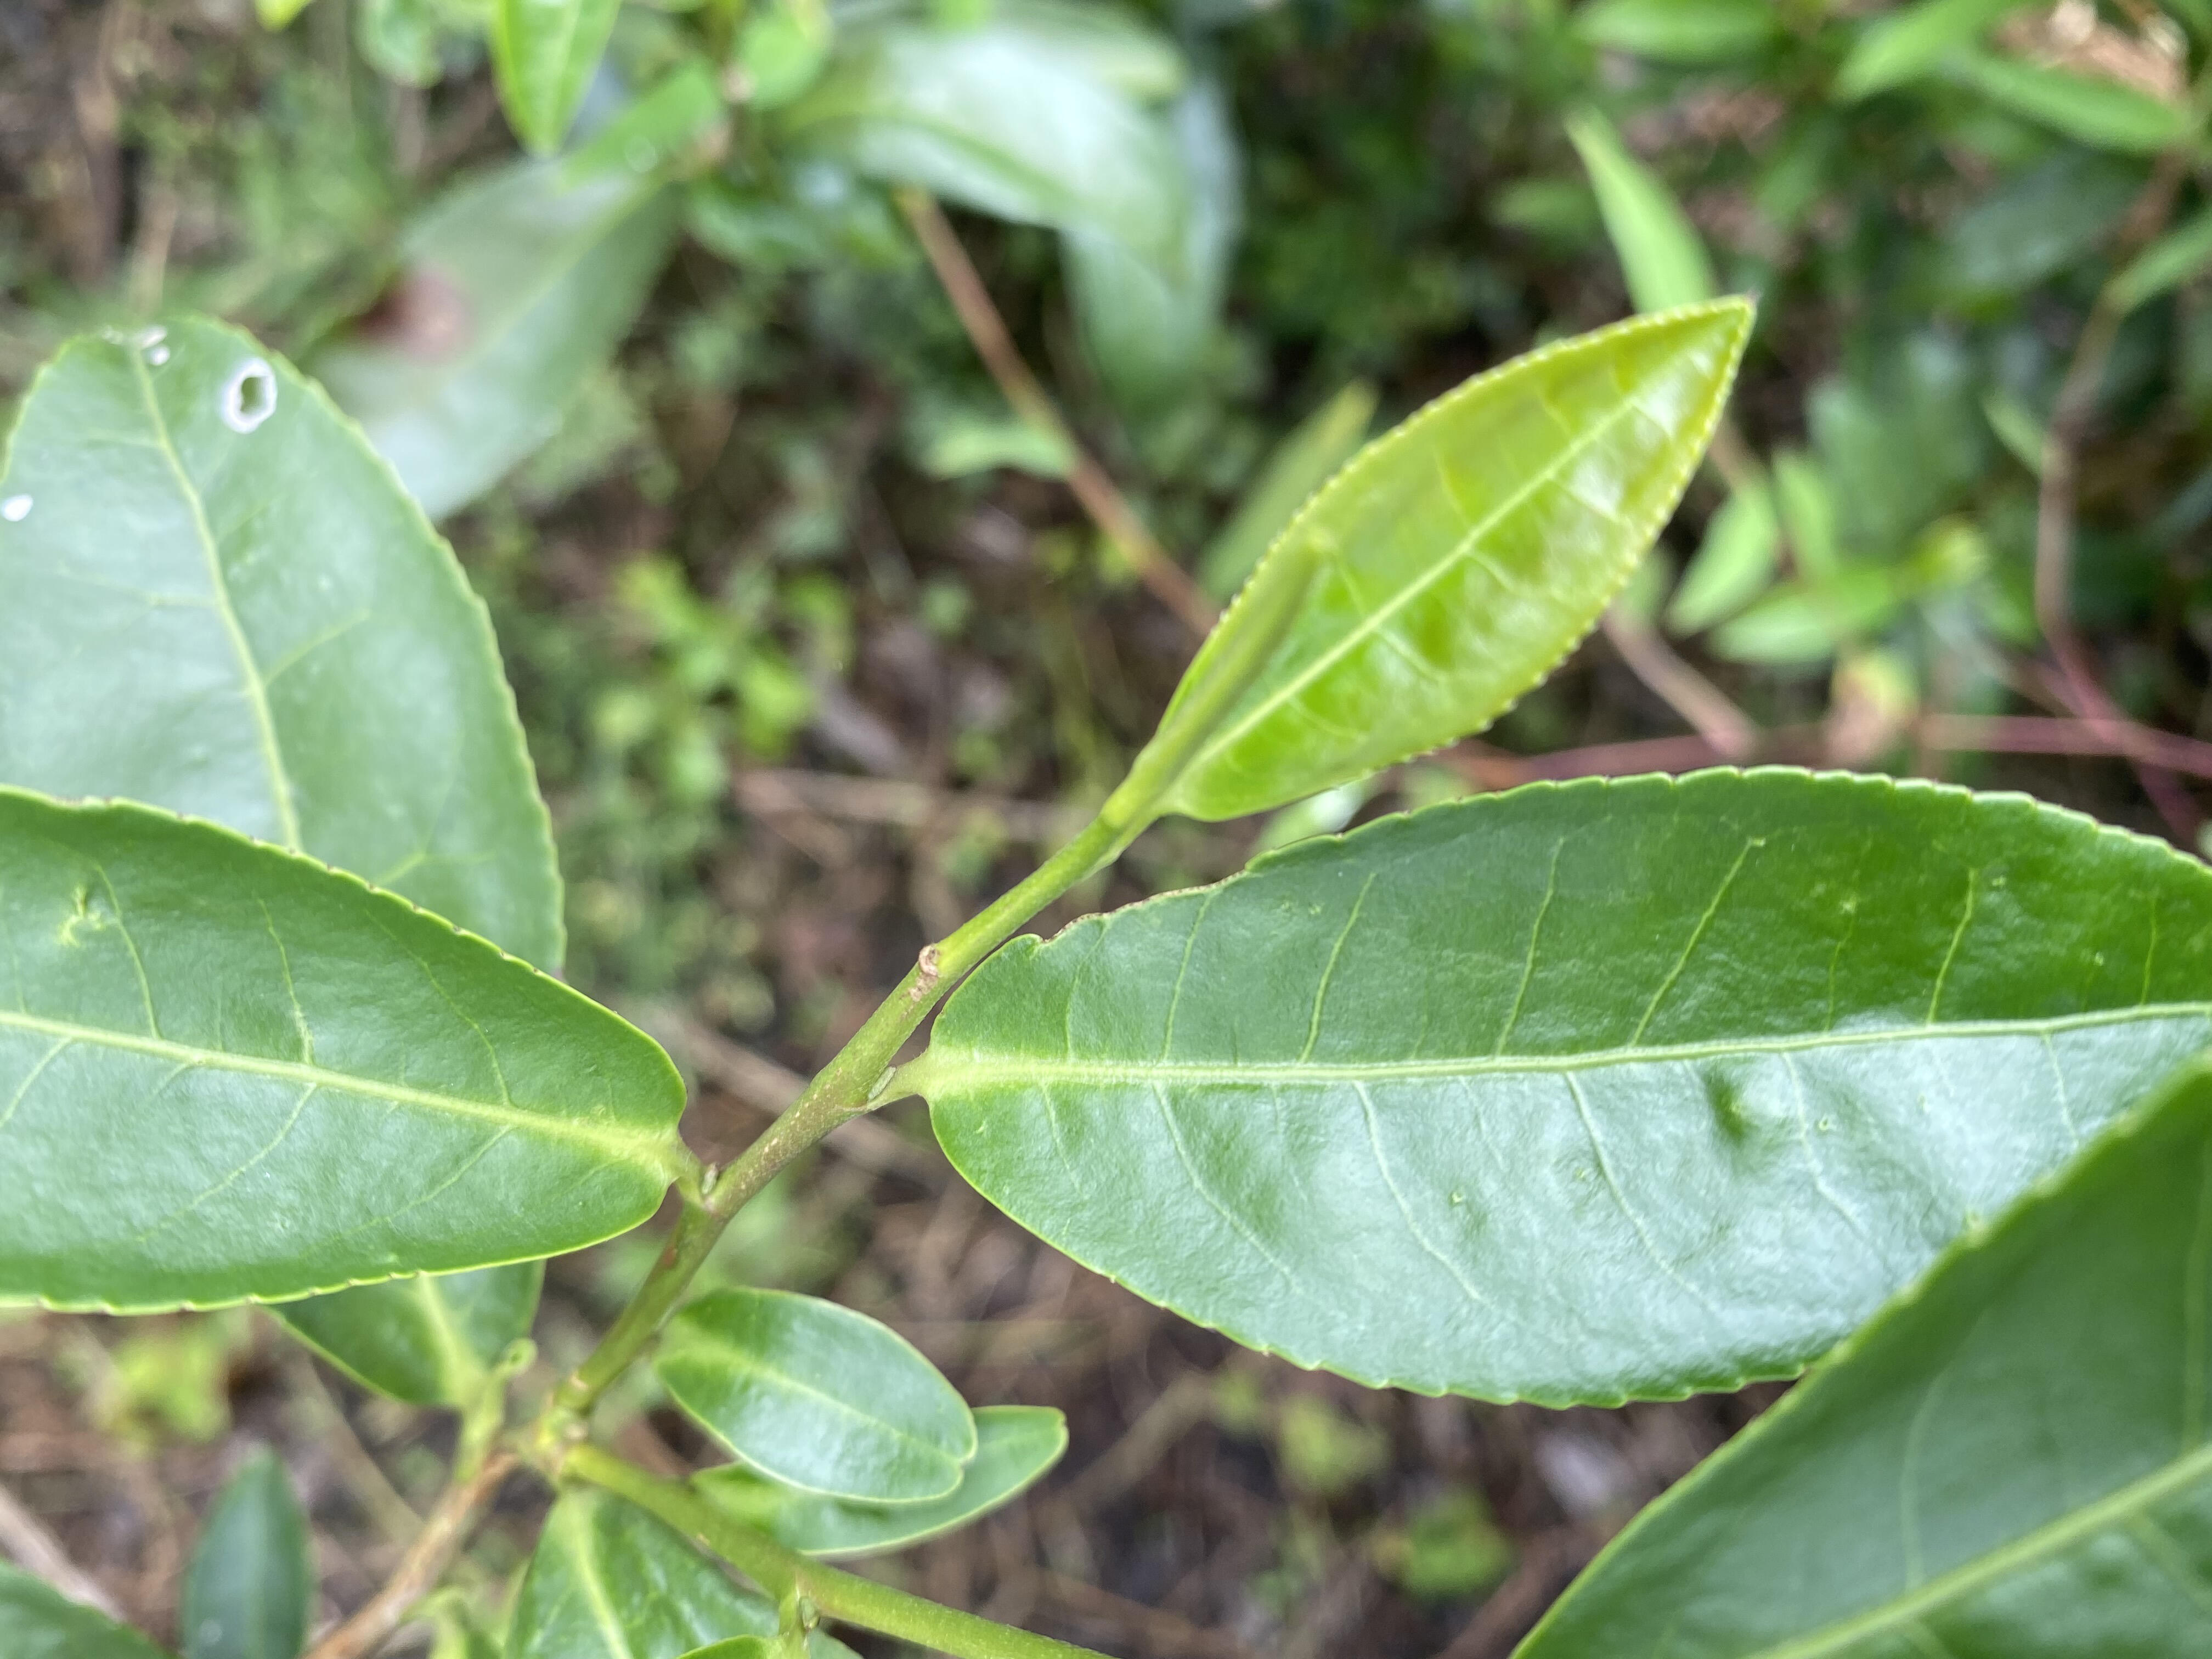chihuo_low: (3, 305, 566, 1405)
healthy: (925, 760, 2209, 1408), (3, 784, 690, 1319), (1157, 295, 1757, 824), (662, 1286, 981, 1506)
